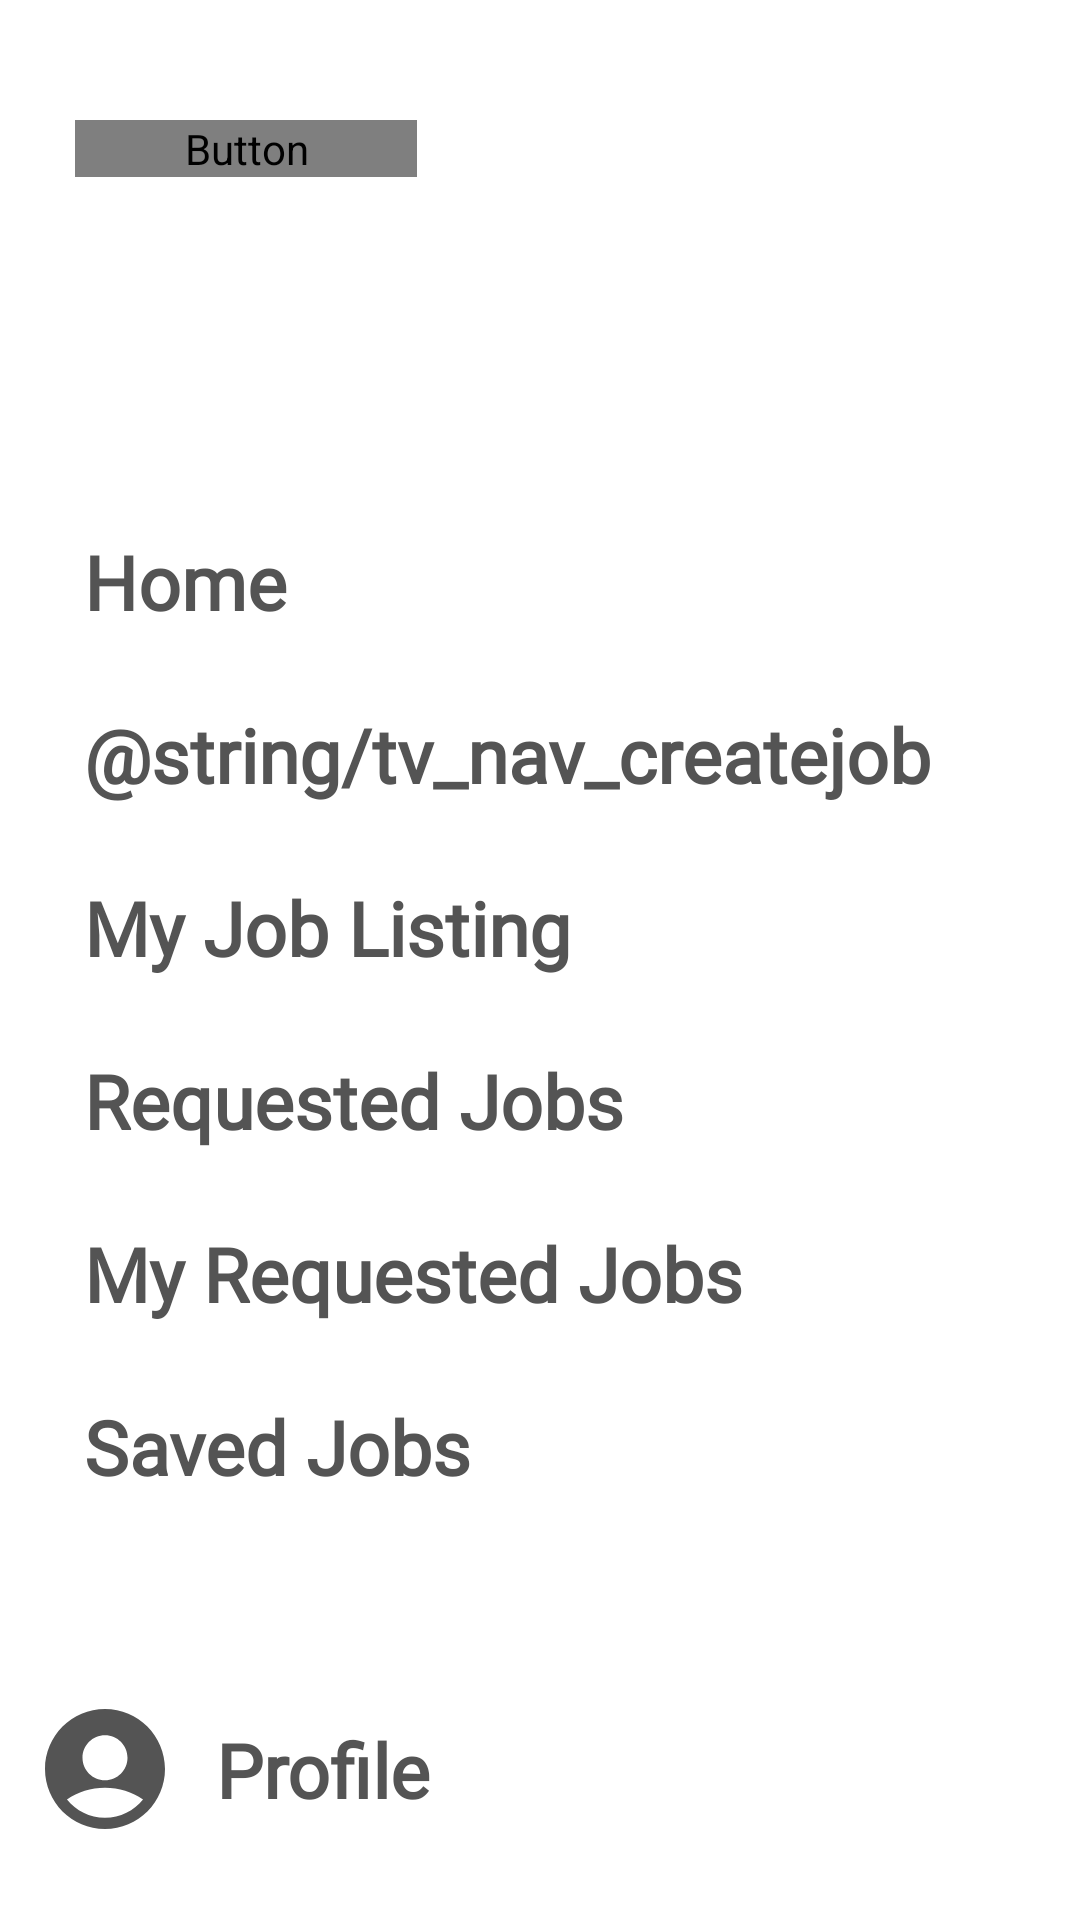

Icon click points for this 1080×1920 phone screenshot, format (x=x, y=y):
account circle: (x=105, y=1769)
